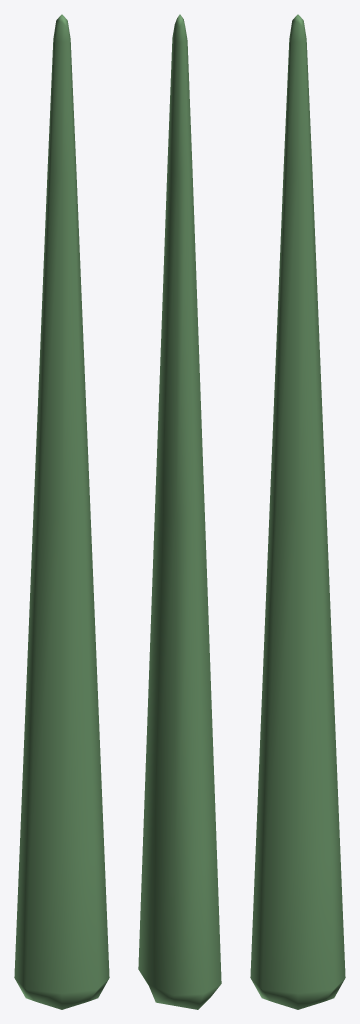
Rendered from spike_1.fbx.
3 renders of one model, left to right at view 1: azimuth 90°, elevation 25°; view 2: azimuth 210°, elevation 25°; view 3: azimuth 270°, elevation 25°, orthographic.
Visible parts, largest first — view 1: high_spike; view 2: high_spike; view 3: high_spike.
Boxes of the visible parts, x1,y1,x2,y2 form: high_spike: [14, 14, 109, 1009]; high_spike: [138, 14, 221, 1009]; high_spike: [250, 14, 345, 1009].
Size of the model in its own units: 0.0285 by 0.4251 by 0.037.
